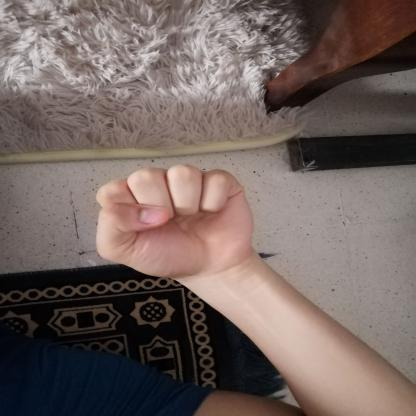SAD: (68, 149, 277, 291)
